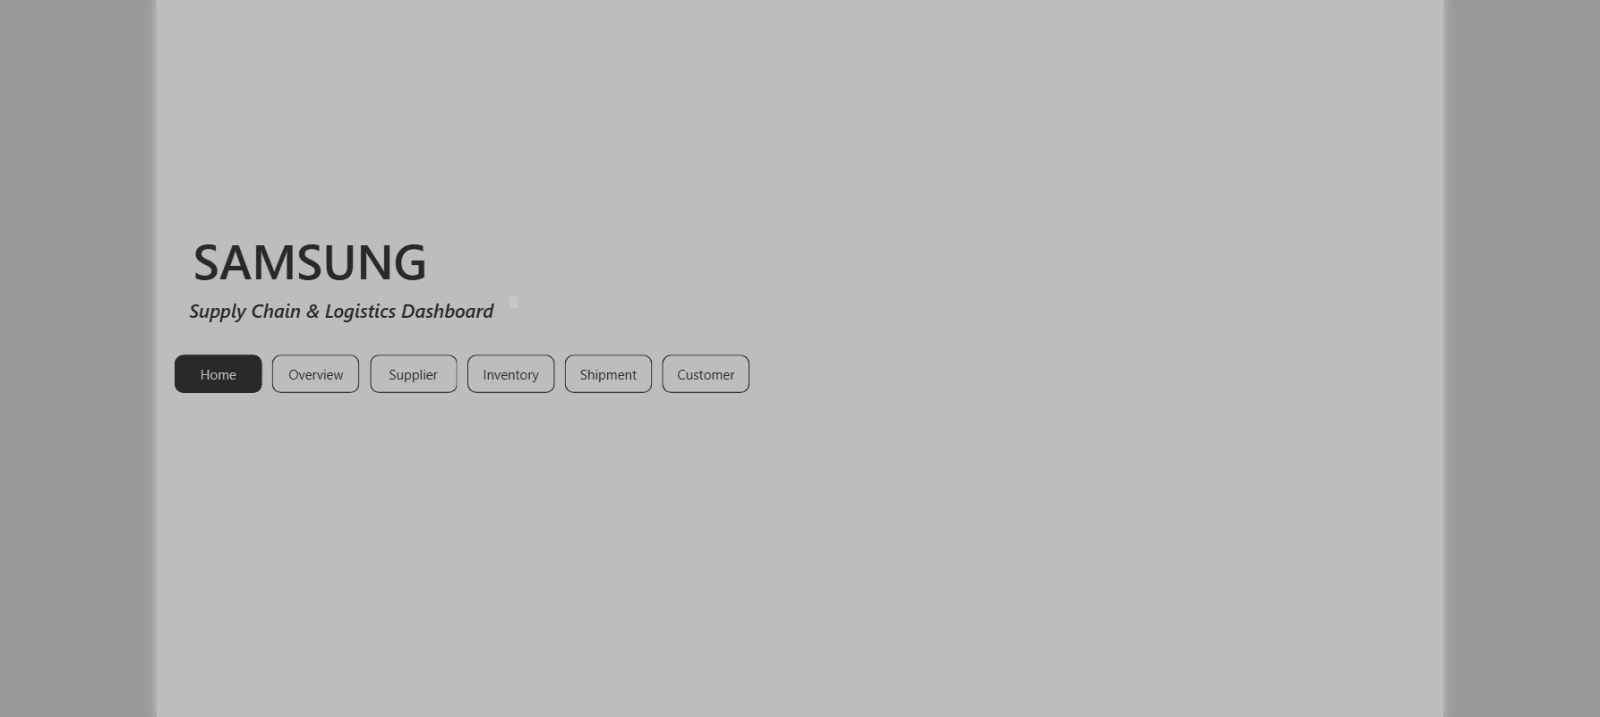

This screenshot's page, from the dashboard's own definition file:
{"tool":"powerbi","page":{"name":"Home","canvas":[1280,720],"ordinal":0},"visuals":[{"type":"shape","title":"Supply Chain & Logistics Dashboard","box":[32.6,300.4,331.8,51.9],"z":0},{"type":"pageNavigator","box":[18.1,357.1,577.9,38.6],"z":1000},{"type":"textbox","title":"SAMSUNG","box":[31.4,230.4,333,85],"z":2000}]}

Visuals, with their boxes on the page's 1280x720 design canvas (x1, y1, x2, y2). These are canvas units, not pixel positions in the 1600x717 screenshot, which may show the page scaled, cropped or inside an application window:
"Supply Chain & Logistics Dashboard" shape: [33,300,364,352]
pageNavigator: [18,357,596,396]
"SAMSUNG" textbox: [31,230,364,315]
